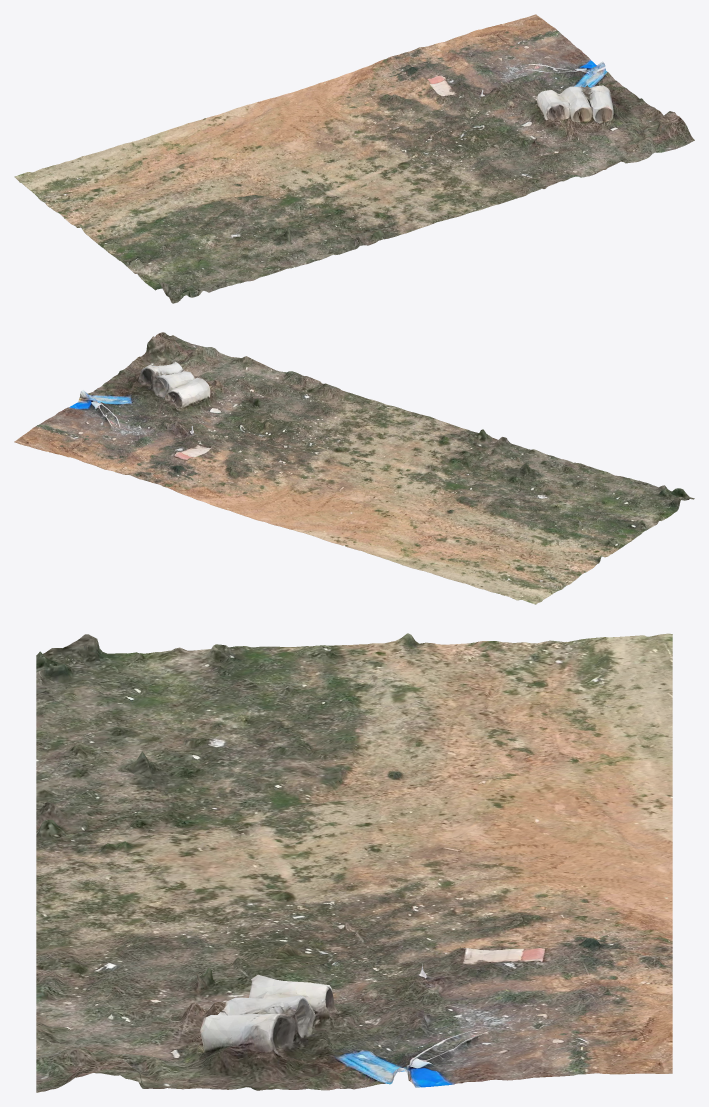
File: BlockYXYY_L21_41.glb
3 views of the same model, one above another, from view 1: azimuth 30°, elevation 25°; view 2: azimuth 150°, elevation 25°; view 3: azimuth 270°, elevation 25° (orthographic). The views are drawn at different scales.
Parts seen in each view (by area): view 1: rtc; view 2: rtc; view 3: rtc.
Part boxes in pixels (x1,y1,x2,y2): rtc: (14, 14, 694, 303); rtc: (14, 332, 694, 604); rtc: (36, 633, 672, 1092).
Bounding box in the file's own units: 32.74 × 3.36 × 17.27.
Materials: 7 (7 with a texture image).
